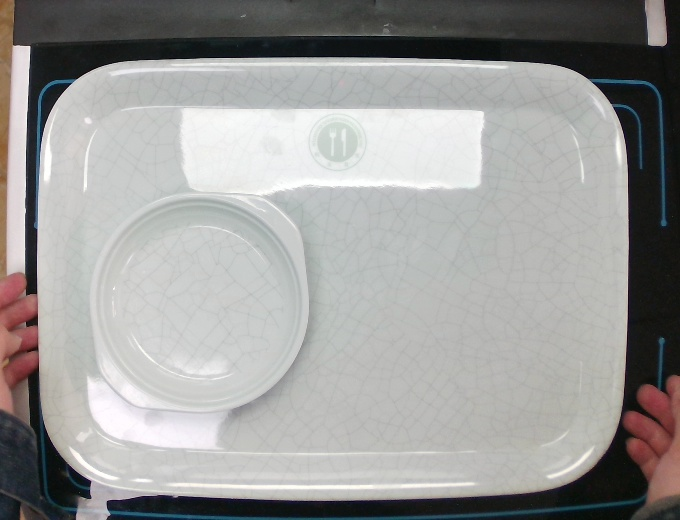JYsf-Shuang_Er_Pan: (87, 191, 315, 417)
